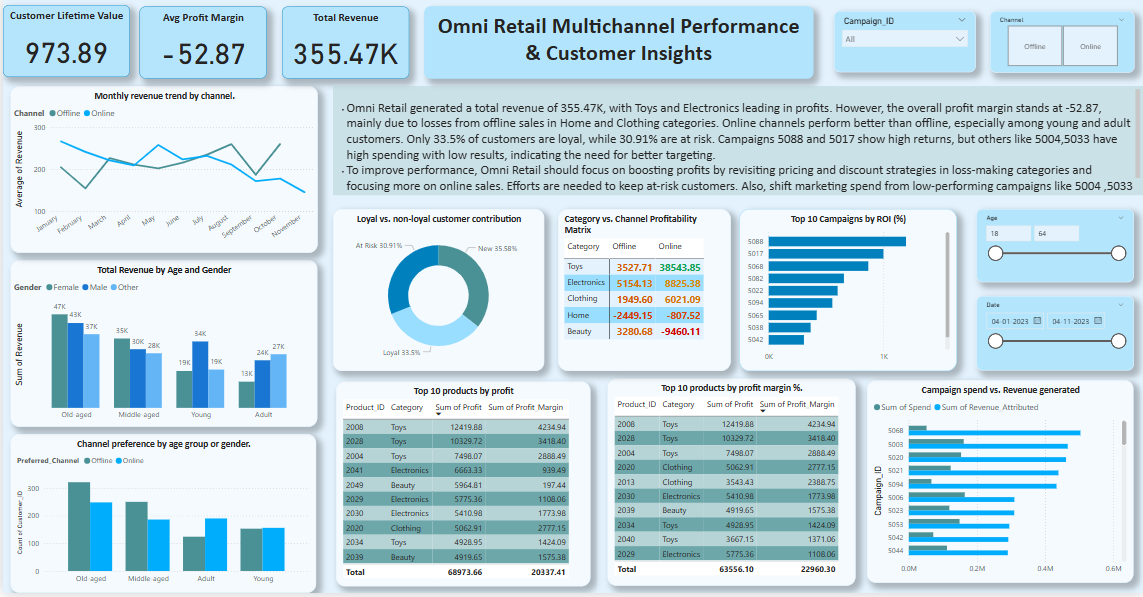

The page's visual inventory and layout, read from the dashboard file:
{"tool":"powerbi","page":{"name":"Omni_Retail_sales","canvas":[1900,990],"ordinal":0},"visuals":[{"type":"clusteredColumnChart","title":"Total Revenue by Age and Gender","fields":{"Category":["omni_retail_sales.Customer_Age_Group"],"Y":["Sum(omni_retail_sales.Revenue)"],"Series":["omni_retail_sales.Gender"]},"box":[13.3,435.6,511.1,277.8],"z":0},{"type":"lineChart","title":"Monthly revenue trend by channel.","fields":{"Category":["omni_retail_sales.Date.Variation.Date Hierarchy.Month"],"Y":["Avg(omni_retail_sales.Revenue)"],"Series":["omni_retail_sales.Channel"]},"box":[12,144,512,278],"z":1000},{"type":"tableEx","title":"Top 10 products by profit","fields":{"Values":["omni_retail_sales.Product_ID","omni_retail_sales.Category","Sum(omni_retail_sales.Profit)","Sum(omni_retail_sales.Profit_Margin)"]},"box":[555.5,636.4,424.3,341.2],"z":2000},{"type":"tableEx","title":" Top 10 products by profit margin %.","fields":{"Values":["omni_retail_sales.Product_ID","omni_retail_sales.Category","Sum(omni_retail_sales.Profit)","Sum(omni_retail_sales.Profit_Margin)"]},"box":[1008.2,632.1,413.4,345.6],"z":3000},{"type":"clusteredColumnChart","title":"Channel preference by age group or gender.","fields":{"Category":["omni_retail_sales.Customer_Age_Group"],"Y":["CountNonNull(omni_retail_sales.Customer_ID)"],"Series":["omni_retail_sales.Preferred_Channel"]},"box":[13.1,726.1,509.6,264.6],"z":4000},{"type":"donutChart","title":"Loyal vs. non-loyal customer contribution","fields":{"Y":["Sum(omni_retail_sales.Revenue)"],"Category":["omni_retail_sales.Loyalty_Status"]},"box":[550,350,352,270],"z":5000},{"type":"clusteredBarChart","title":"Campaign spend vs. Revenue generated","fields":{"Category":["omni_retail_sales.Campaign_ID"],"Y":["Sum(omni_retail_sales.Spend)","Sum(omni_retail_sales.Revenue_Attributed)"]},"box":[1440,636,444,338],"z":6000},{"type":"pivotTable","title":"Category vs. Channel Profitability Matrix","fields":{"Rows":["omni_retail_sales.Category"],"Columns":["omni_retail_sales.Channel"],"Values":["Sum(omni_retail_sales.Profit)"]},"box":[926,350,288,270],"z":7000},{"type":"card","title":"Total Revenue","fields":{"Values":["Sum(omni_retail_sales.Revenue)"]},"box":[466,12,212,120],"z":8000},{"type":"card","title":" Avg Profit Margin","fields":{"Values":["Avg(omni_retail_sales.Profit_Margin)"]},"box":[228,12,212,120],"z":9000},{"type":"barChart","title":"Top 10 Campaigns by ROI (%)","fields":{"Category":["omni_retail_sales.Campaign_ID"],"Y":["omni_retail_sales.Campaign_ROI_%"]},"box":[1228,350,362,270],"z":10000},{"type":"card","title":"Customer Lifetime Value","fields":{"Values":["omni_retail_sales.Revenue_per_Customer"]},"box":[0,11.1,211.1,120],"z":11000},{"type":"textbox","box":[702,12,648,120],"z":12000},{"type":"textbox","box":[550,144,1350,182],"z":13000},{"type":"slicer","fields":{"Values":["omni_retail_sales.Age"]},"box":[1622,350,262,122],"z":14000},{"type":"slicer","fields":{"Values":["omni_retail_sales.Campaign_ID"]},"box":[1386,20,236,102],"z":15000},{"type":"slicer","fields":{"Values":["omni_retail_sales.Channel"]},"box":[1644.7,19.7,240.6,102.8],"z":16000},{"type":"slicer","fields":{"Values":["omni_retail_sales.Date"]},"box":[1622,496,262,124],"z":17000}]}

Visuals, with their boxes in screenshot pixels (x1, y1, x2, y2), scaled from the page's 1900x990 canvas onto the 1143x597 screenshot:
"Total Revenue by Age and Gender" clusteredColumnChart: box=[8, 263, 315, 430]
"Monthly revenue trend by channel." lineChart: box=[7, 87, 315, 254]
"Top 10 products by profit" tableEx: box=[334, 384, 589, 590]
" Top 10 products by profit margin %." tableEx: box=[607, 381, 855, 590]
"Channel preference by age group or gender." clusteredColumnChart: box=[8, 438, 314, 596]
"Loyal vs. non-loyal customer contribution" donutChart: box=[331, 211, 543, 374]
"Campaign spend vs. Revenue generated" clusteredBarChart: box=[866, 384, 1133, 587]
"Category vs. Channel Profitability Matrix" pivotTable: box=[557, 211, 730, 374]
"Total Revenue" card: box=[280, 7, 408, 80]
" Avg Profit Margin" card: box=[137, 7, 265, 80]
"Top 10 Campaigns by ROI (%)" barChart: box=[739, 211, 957, 374]
"Customer Lifetime Value" card: box=[0, 7, 127, 79]
textbox: box=[422, 7, 812, 80]
textbox: box=[331, 87, 1142, 197]
slicer - omni_retail_sales.Age: box=[976, 211, 1133, 285]
slicer - omni_retail_sales.Campaign_ID: box=[834, 12, 976, 74]
slicer - omni_retail_sales.Channel: box=[989, 12, 1134, 74]
slicer - omni_retail_sales.Date: box=[976, 299, 1133, 374]
